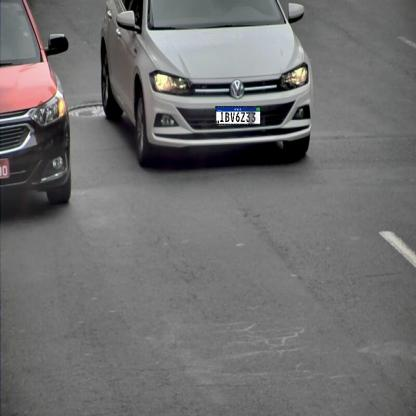PlacaM: (215, 106, 261, 125)
